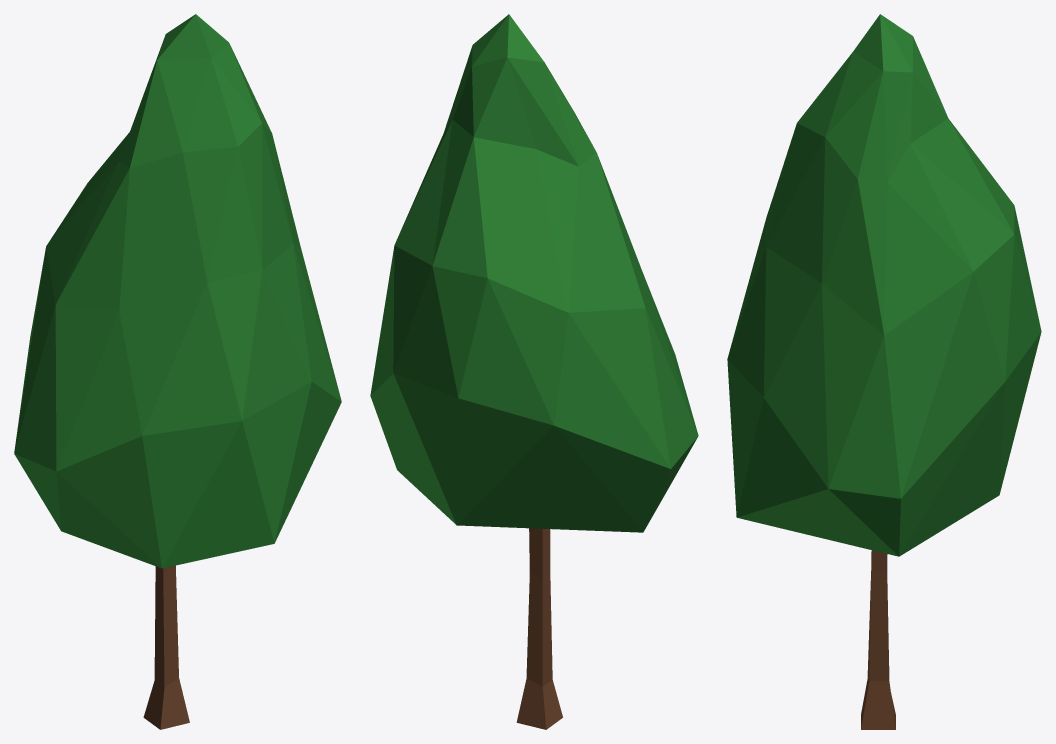
File: Tree_37_Green.fbx
The picture shows the model from 3 angles, left to right: view 1: azimuth 30°, elevation 25°; view 2: azimuth 150°, elevation 25°; view 3: azimuth 270°, elevation 25°; orthographic projection. The views are drawn at different scales.
Parts seen in each view (by area): view 1: Tree_37_Green_Part_1, Tree_37_Green_Part_2; view 2: Tree_37_Green_Part_1, Tree_37_Green_Part_2; view 3: Tree_37_Green_Part_1, Tree_37_Green_Part_2.
Boxes of the visible parts, bbox=[...] form: Tree_37_Green_Part_1: bbox=[14, 14, 341, 568]; Tree_37_Green_Part_2: bbox=[143, 565, 189, 729]; Tree_37_Green_Part_1: bbox=[370, 14, 698, 532]; Tree_37_Green_Part_2: bbox=[516, 528, 562, 729]; Tree_37_Green_Part_1: bbox=[727, 14, 1041, 556]; Tree_37_Green_Part_2: bbox=[861, 550, 895, 729].
Size of the model in its own units: 358 by 797 by 314.
